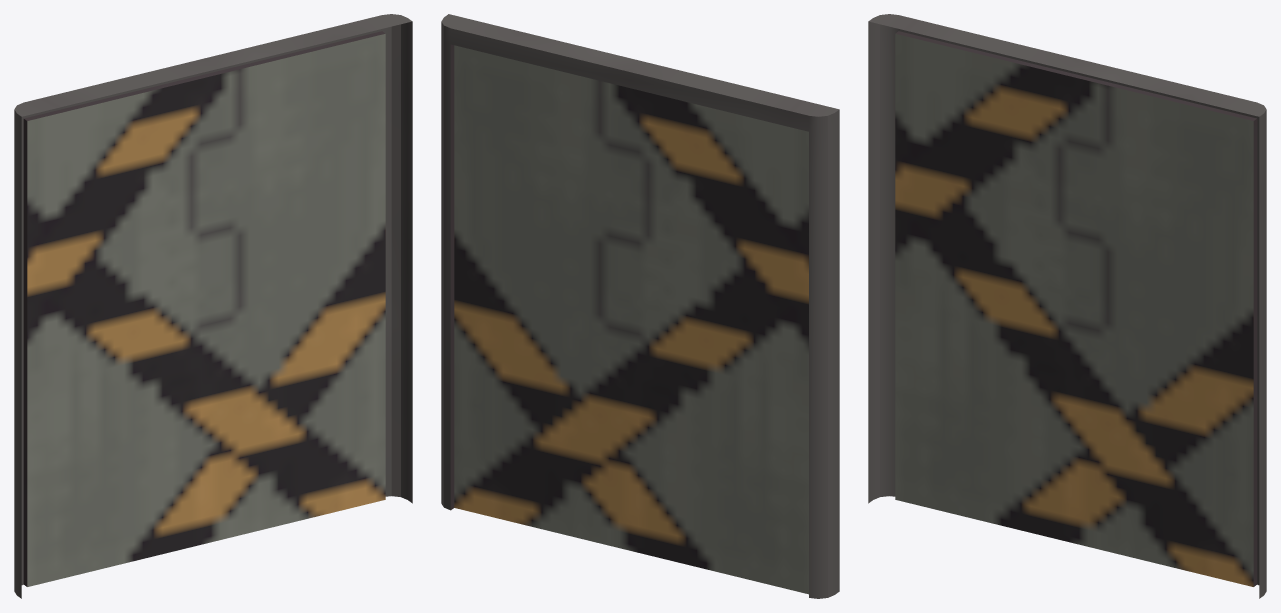
File: doorTaped.fbx
The picture shows the model from 3 angles, left to right: view 1: azimuth 30°, elevation 25°; view 2: azimuth 150°, elevation 25°; view 3: azimuth 330°, elevation 25°; orthographic projection.
Parts seen in each view (by area): view 1: doorTaped; view 2: doorTaped; view 3: doorTaped.
Boxes of the visible parts, <box> form: doorTaped: <box>14,14,412,598</box>; doorTaped: <box>441,14,839,598</box>; doorTaped: <box>868,14,1266,598</box>.
Bounding box in the file's own units: 318 × 375 × 20.
